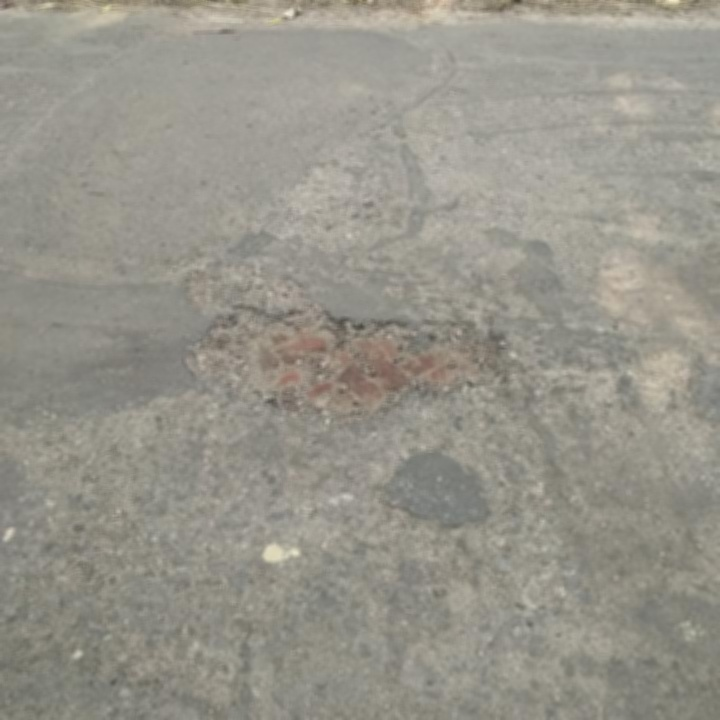pothole: (178, 303, 507, 424)
